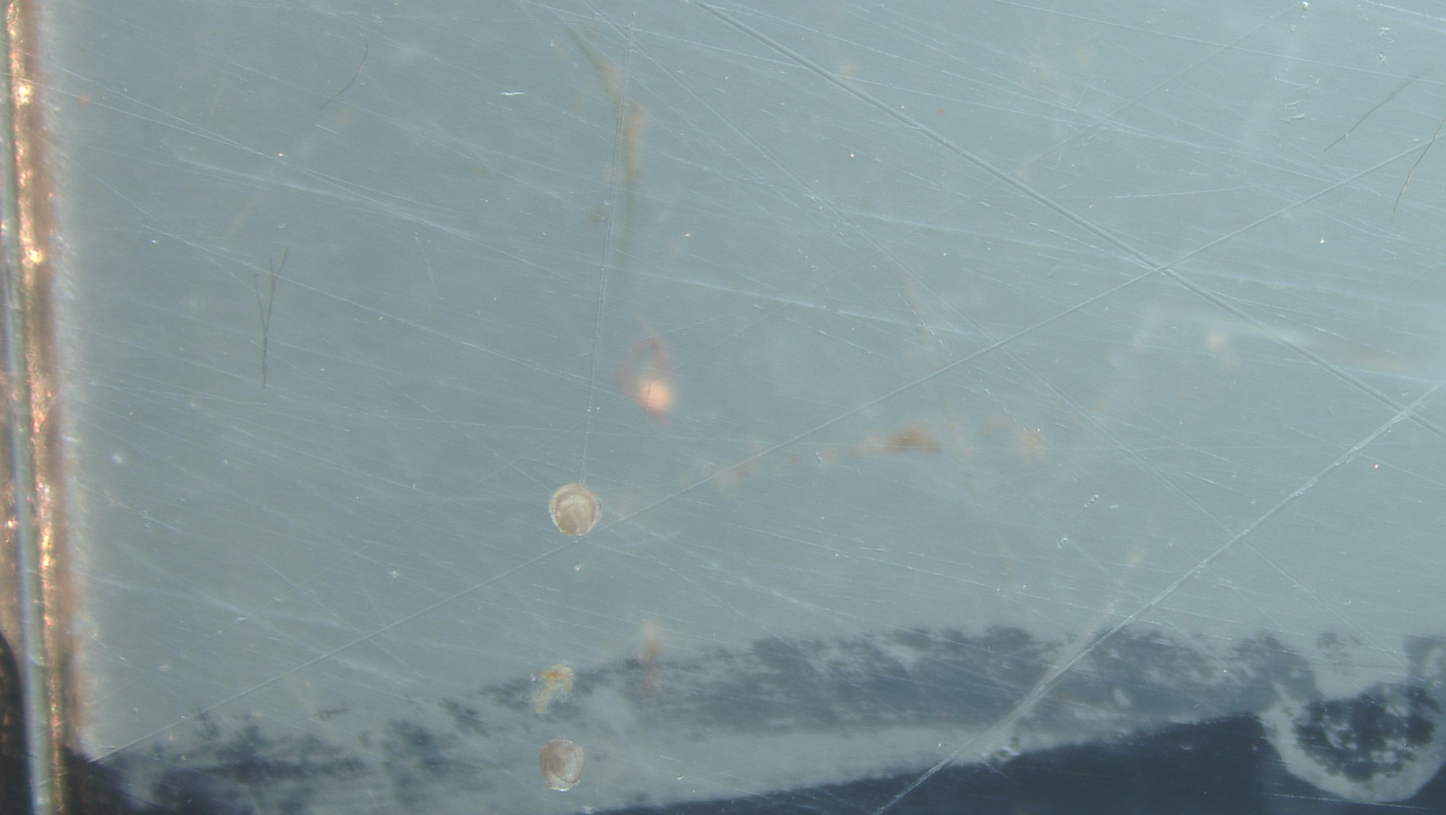live: (549, 484, 601, 537), (539, 738, 586, 792)
